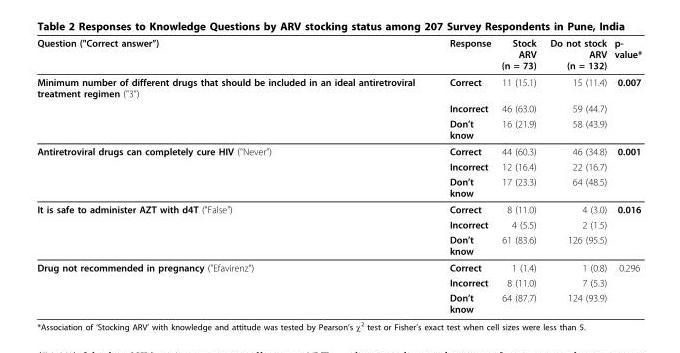table: (36, 36, 641, 314)
table column: (36, 36, 431, 314), (542, 36, 609, 314), (431, 36, 495, 314), (495, 36, 542, 314), (609, 36, 641, 314)
table column header: (36, 36, 641, 73)
table row: (36, 36, 641, 73), (36, 73, 641, 100), (36, 115, 641, 142), (36, 173, 641, 200), (36, 231, 641, 258), (36, 289, 641, 314), (36, 142, 641, 158), (36, 200, 641, 216), (36, 258, 641, 274), (36, 100, 641, 115), (36, 158, 641, 173), (36, 216, 641, 231), (36, 274, 641, 289)
table spanning cell: (36, 73, 431, 142), (36, 142, 431, 200), (36, 200, 431, 258), (36, 258, 431, 314)
